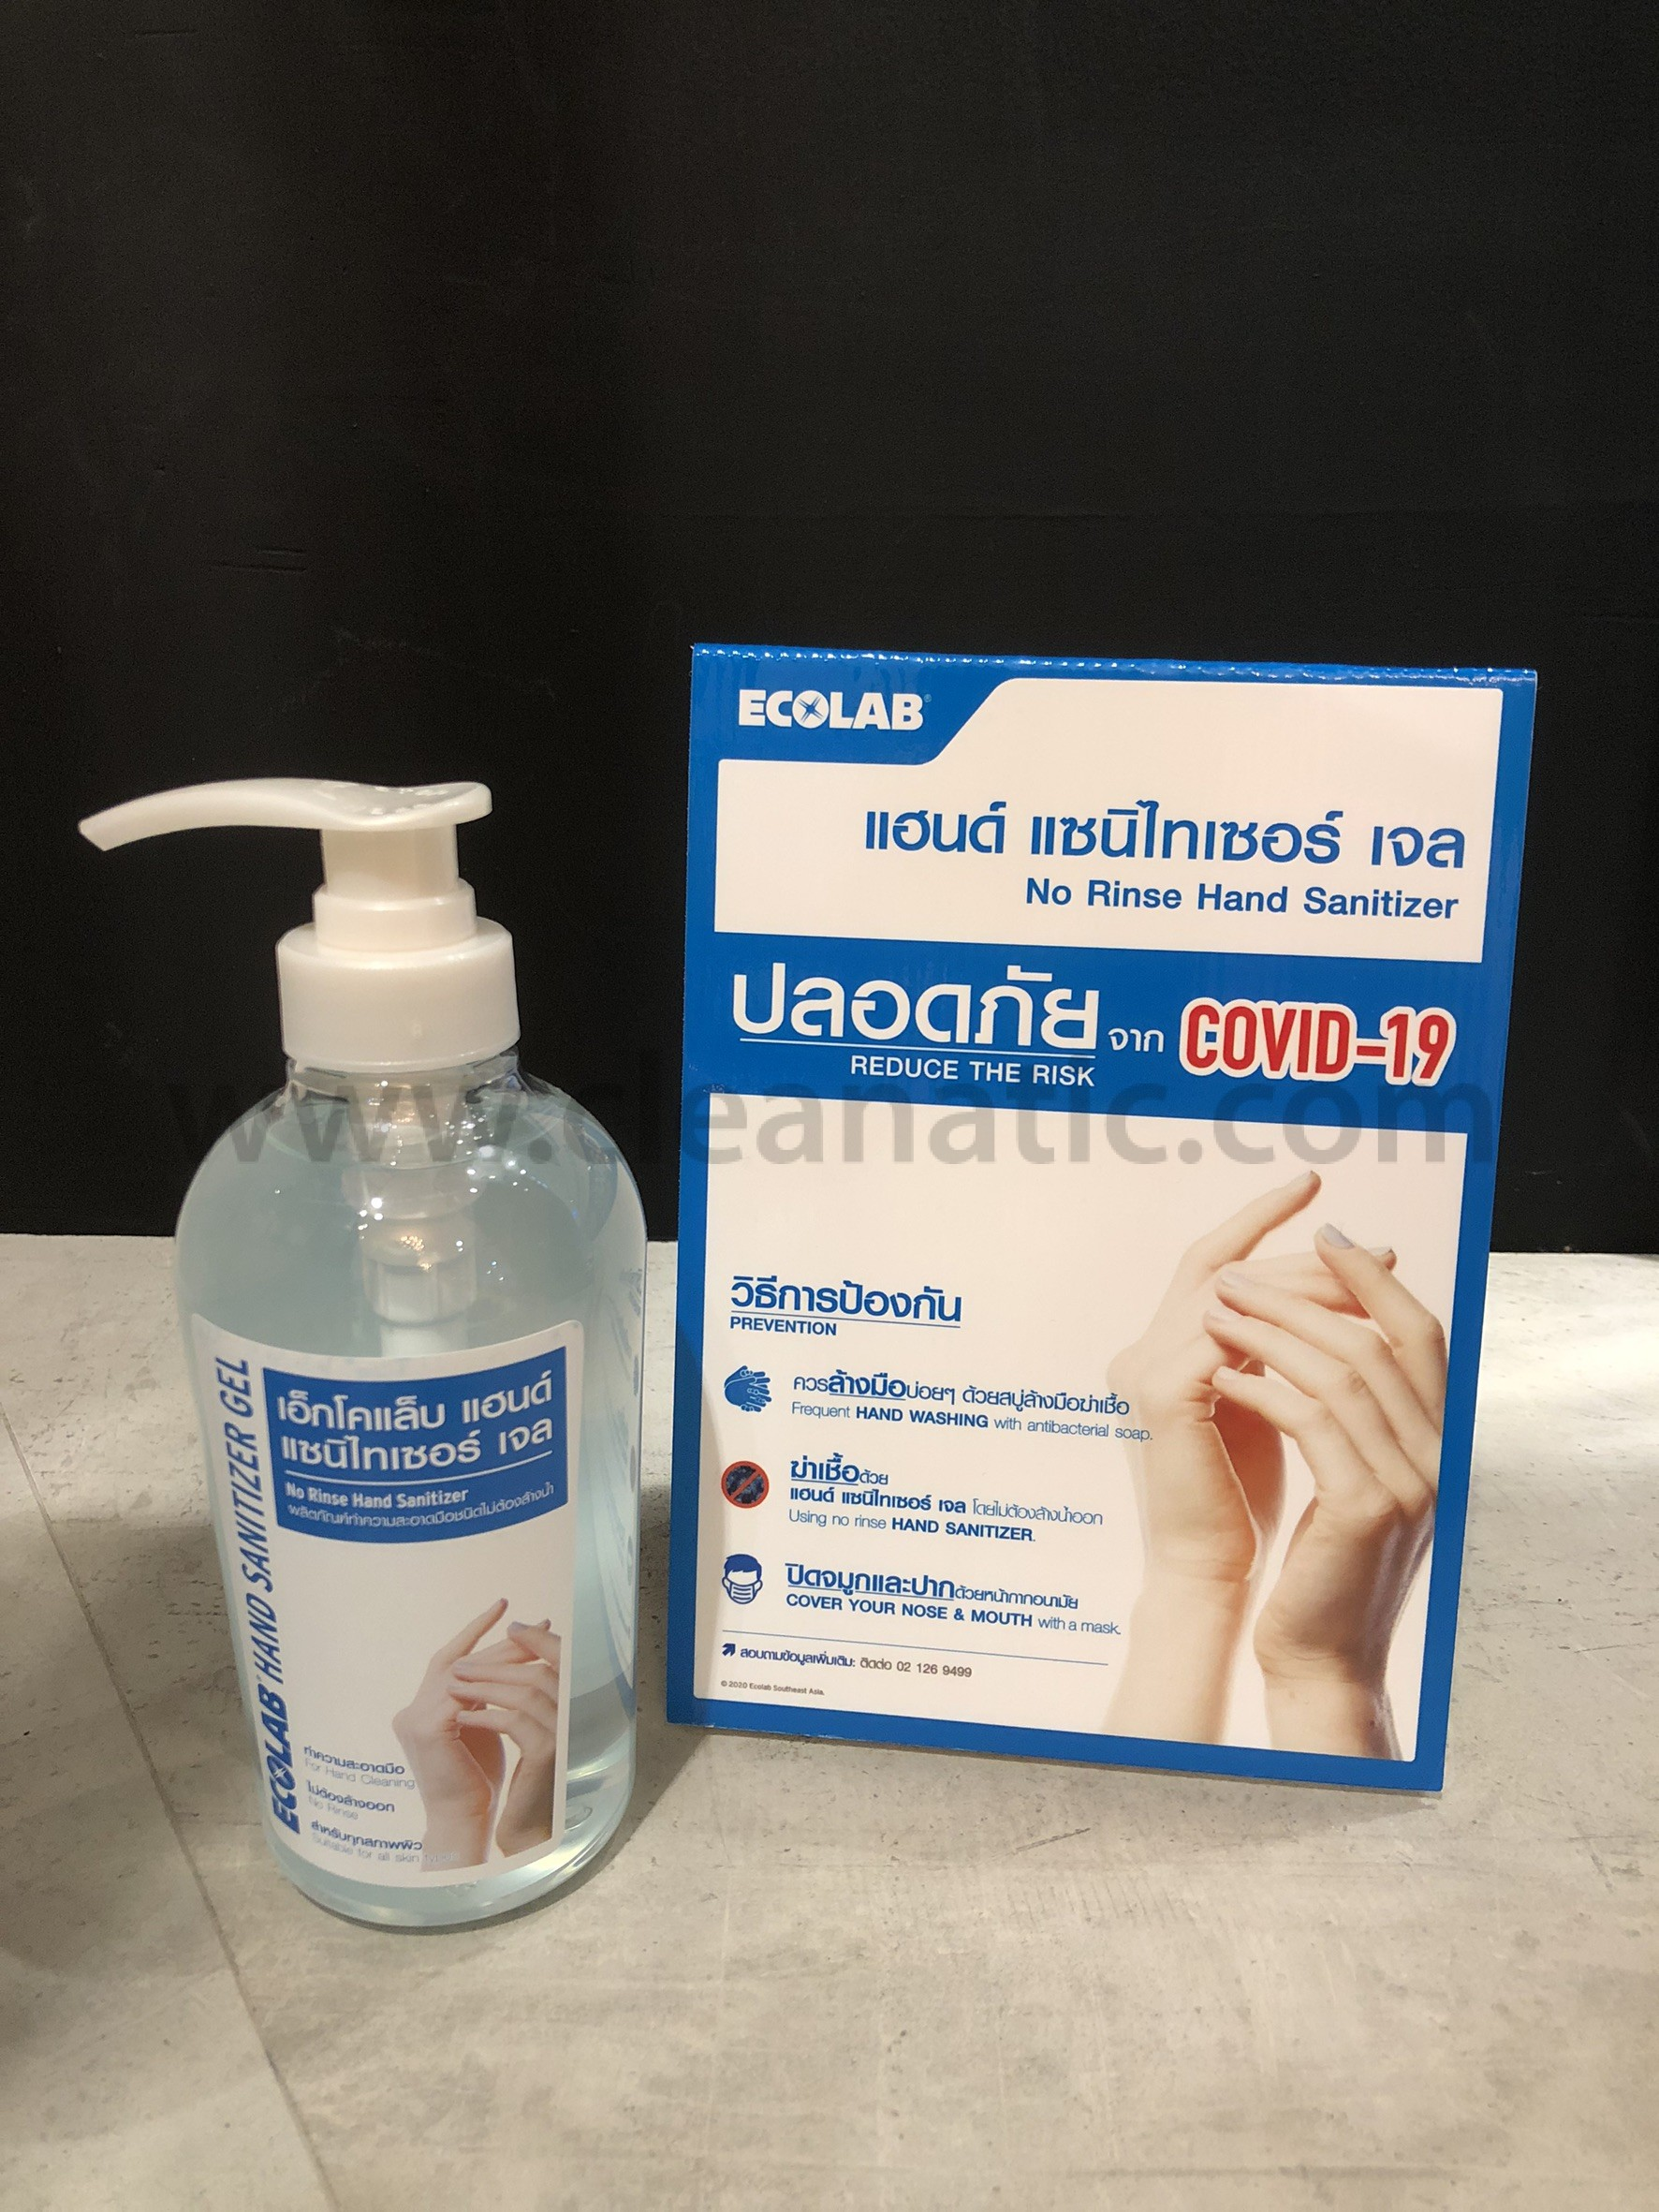Cleaning_solution: (63, 746, 676, 1949)
